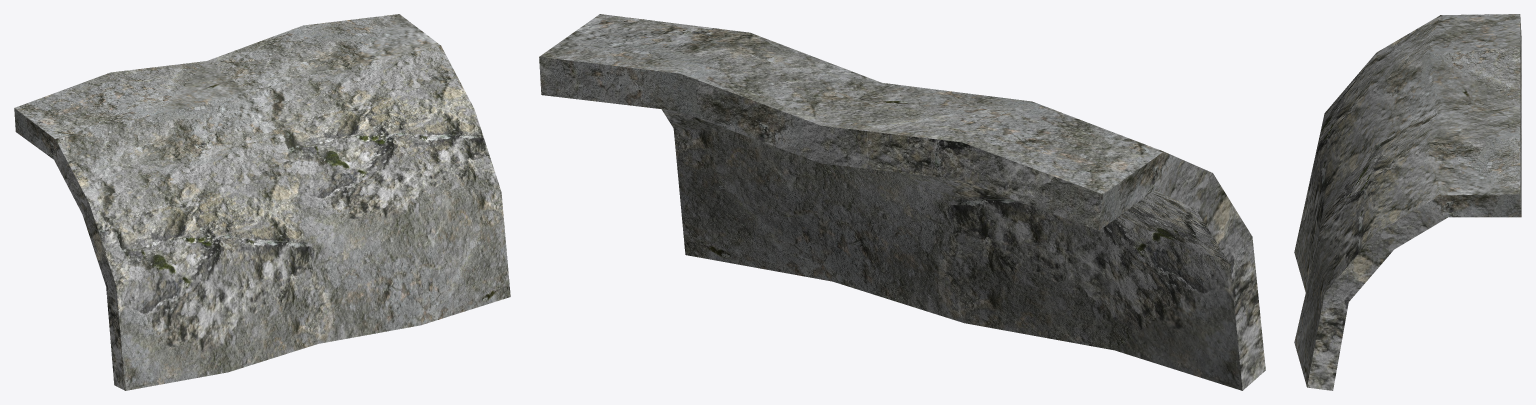
Rendered from UWBorderOut.fbx.
3 renders of one model, left to right at view 1: azimuth 30°, elevation 25°; view 2: azimuth 150°, elevation 25°; view 3: azimuth 270°, elevation 25°, orthographic. The views are drawn at different scales.
Parts seen in each view (by area): view 1: UWBorderOut; view 2: UWBorderOut; view 3: UWBorderOut.
Part boxes in pixels (x1=…): UWBorderOut: x1=14, y1=14, x2=510, y2=390; UWBorderOut: x1=539, y1=14, x2=1265, y2=390; UWBorderOut: x1=1294, y1=14, x2=1521, y2=390.
Bounding box in the file's own units: 800 × 433 × 426.
